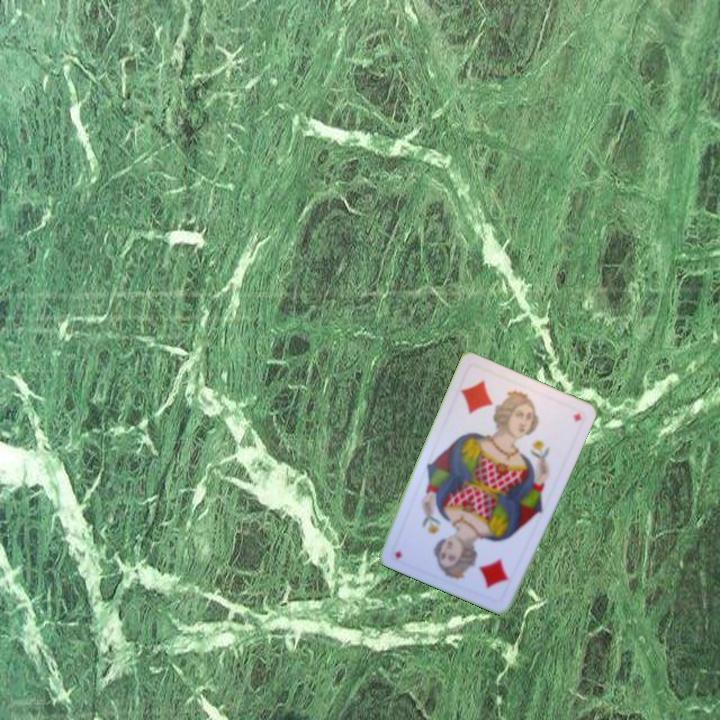d_q.png: (443, 527, 526, 605), (447, 362, 530, 440)
